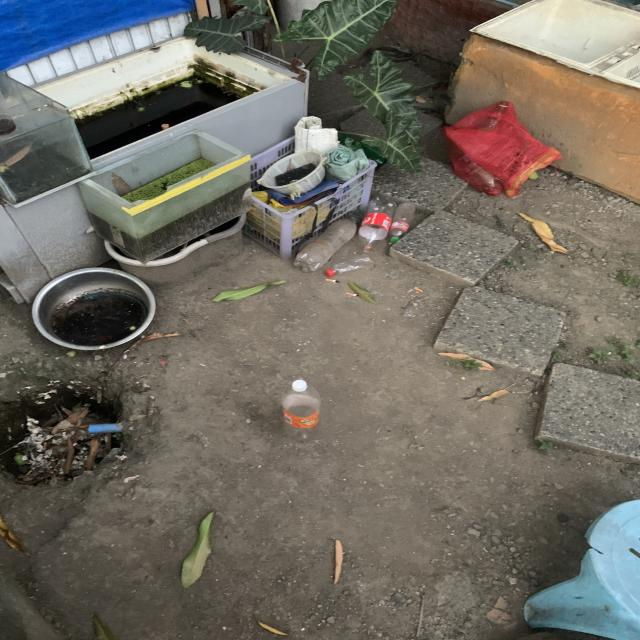Bottle: (281, 380, 320, 439)
